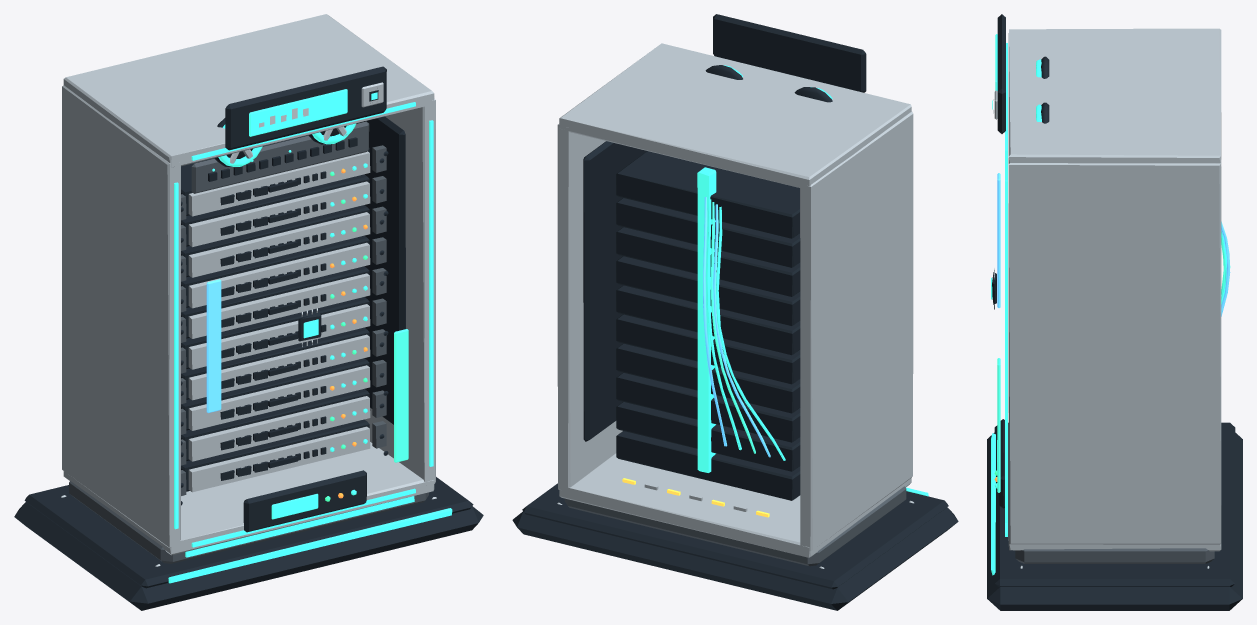
Rendered from ProviderEDC.glb.
3 views of the same model, side by side, from view 1: azimuth 30°, elevation 25°; view 2: azimuth 150°, elevation 25°; view 3: azimuth 270°, elevation 25° (orthographic). The views are drawn at different scales.
Visible parts, largest first — view 1: ProviderEDC_Body, ProviderEDC_ControlPlane, ProviderEDC_DataPlane; view 2: ProviderEDC_Body; view 3: ProviderEDC_Body, ProviderEDC_ControlPlane, ProviderEDC_DataPlane.
Boxes of the visible parts, <box> form: ProviderEDC_Body: <box>14,14,483,610</box>; ProviderEDC_ControlPlane: <box>206,279,221,412</box>; ProviderEDC_DataPlane: <box>394,329,408,462</box>; ProviderEDC_Body: <box>512,14,958,610</box>; ProviderEDC_Body: <box>987,14,1242,610</box>; ProviderEDC_ControlPlane: <box>997,173,1000,307</box>; ProviderEDC_DataPlane: <box>997,358,1000,492</box>.
Size of the model in its own units: 2.72 by 3.56 by 1.72.
